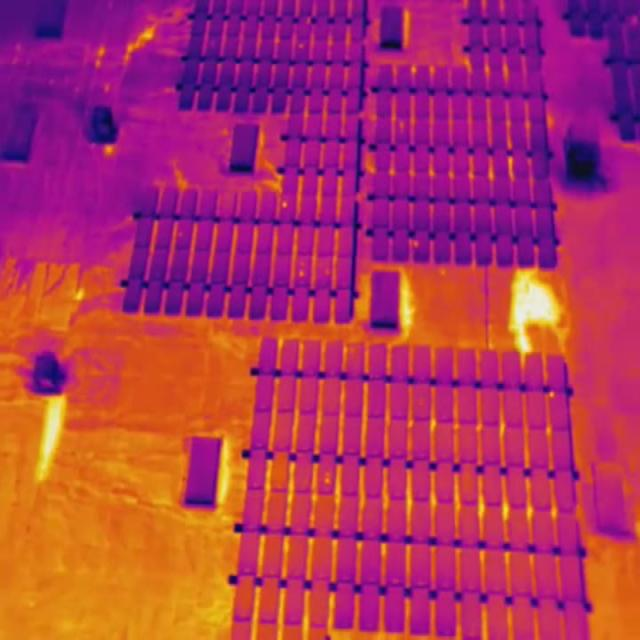Orange-Spots: (324, 471, 331, 485), (399, 121, 404, 130), (282, 201, 288, 208), (549, 392, 555, 398), (413, 241, 419, 247), (325, 270, 330, 276), (299, 271, 304, 277), (298, 44, 304, 49), (300, 261, 305, 266)
